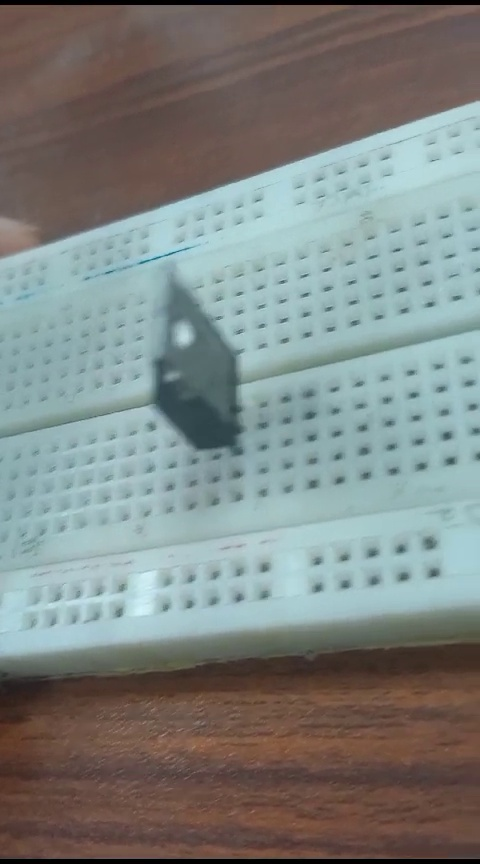voltage regulator: (136, 260, 246, 452)
